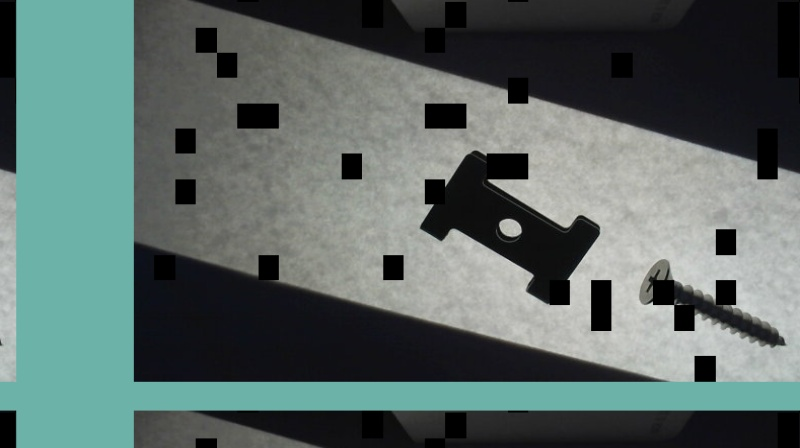O002: (418, 150, 602, 303)
S001: (637, 255, 787, 350)
